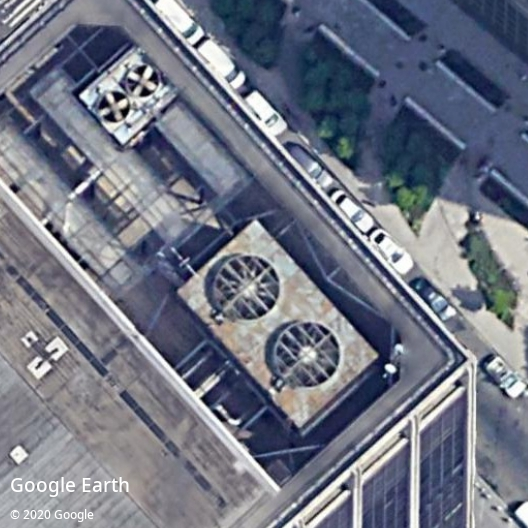Vent: (212, 253, 283, 323), (274, 320, 342, 389), (126, 64, 162, 99), (96, 91, 131, 124)
